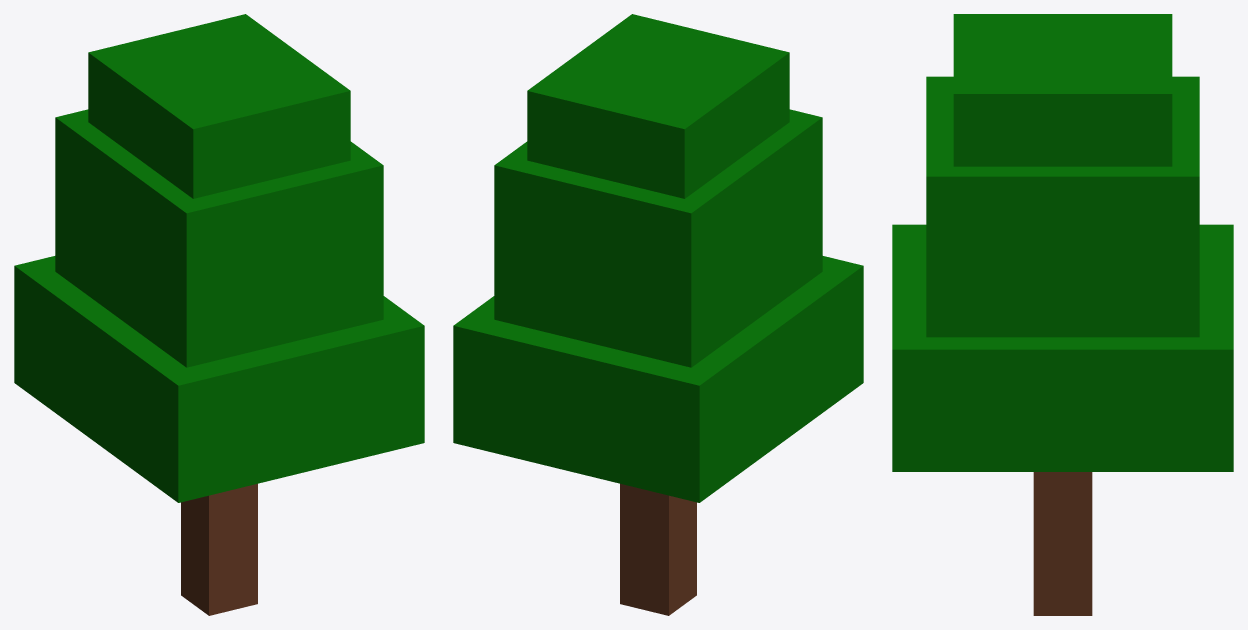
File: Tree1.fbx
The picture shows the model from 3 angles, left to right: view 1: azimuth 30°, elevation 25°; view 2: azimuth 150°, elevation 25°; view 3: azimuth 270°, elevation 25°; orthographic projection. The views are drawn at different scales.
Parts seen in each view (by area): view 1: pCube1; view 2: pCube1; view 3: pCube1.
Part boxes in pixels (bbox=[...]): pCube1: bbox=[14, 14, 424, 615]; pCube1: bbox=[453, 14, 863, 615]; pCube1: bbox=[892, 14, 1233, 615].
Bounding box in the file's own units: 5.03 × 10.31 × 5.8.
